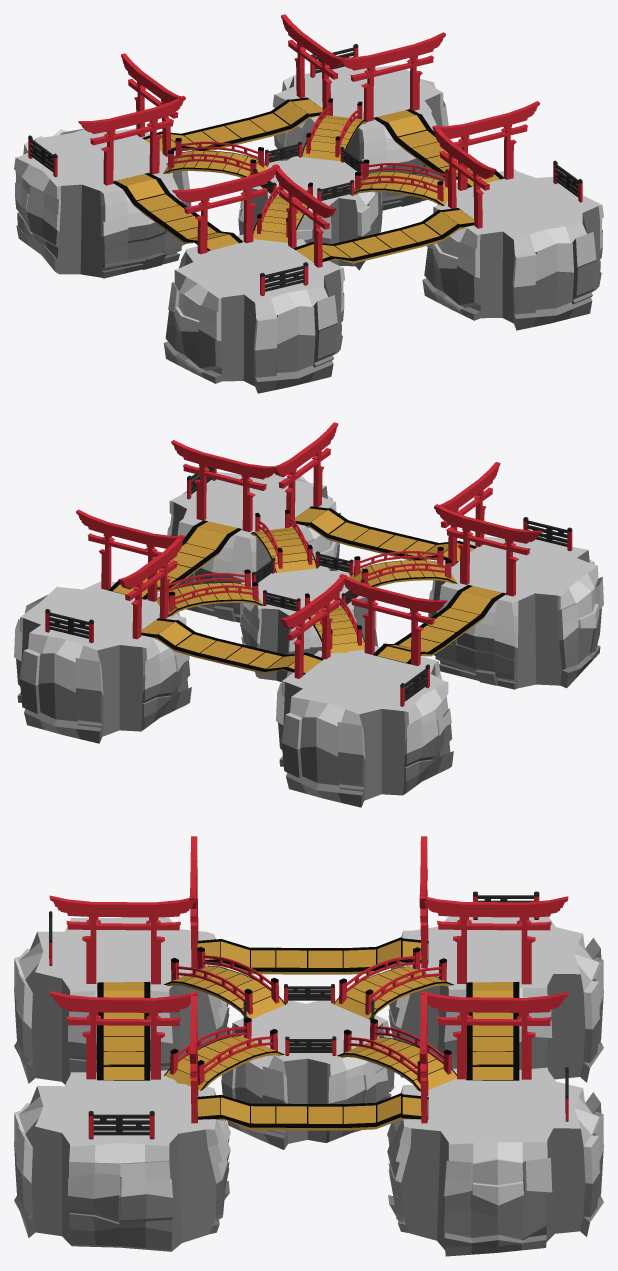
File: jepang_revised.fbx
3 renders of one model, top to bottom at view 1: azimuth 30°, elevation 25°; view 2: azimuth 150°, elevation 25°; view 3: azimuth 270°, elevation 25°, orthographic. The views are drawn at different scales.
Parts seen in each view (by area): view 1: main_platform_lower_left, main_platform_lower_right, main_platform_upper_left, main_platform_upper_right, main_platform_middle, bridge_long_lower, bridge_long_upper, bridge_long_left, torii_upper_left_1, torii_lower_left_1, torii_upper_right_1, bridge_long_right (+16 smaller); view 2: main_platform_upper_left, main_platform_upper_right, main_platform_lower_left, main_platform_lower_right, main_platform_middle, bridge_long_upper, bridge_long_left, bridge_long_lower, torii_lower_right_1, torii_lower_left_1, torii_upper_left_1, torii_upper_right_1 (+17 smaller); view 3: main_platform_upper_right, main_platform_lower_right, main_platform_upper_left, main_platform_lower_left, main_platform_middle, bridge_long_right, bridge_long_left, torii_lower_left_2, torii_upper_left_2, torii_lower_right_2, torii_upper_right_2, bridge_long_lower (+20 smaller).
Boxes of the visible parts, left/top/right/bottom form: main_platform_lower_left: left=163, top=234, right=345, bottom=393; main_platform_lower_right: left=422, top=169, right=603, bottom=330; main_platform_upper_left: left=14, top=128, right=192, bottom=278; main_platform_upper_right: left=272, top=64, right=448, bottom=210; main_platform_middle: left=238, top=156, right=383, bottom=270; bridge_long_lower: left=293, top=208, right=474, bottom=263; bridge_long_upper: left=142, top=97, right=322, bottom=151; bridge_long_left: left=113, top=173, right=242, bottom=251; torii_upper_left_1: left=78, top=95, right=185, bottom=185; torii_lower_left_1: left=172, top=164, right=279, bottom=254; torii_upper_right_1: left=338, top=32, right=445, bottom=121; bridge_long_right: left=373, top=109, right=503, bottom=187; main_platform_upper_left: left=276, top=646, right=453, bottom=807; main_platform_upper_right: left=14, top=581, right=191, bottom=743; main_platform_lower_left: left=428, top=535, right=603, bottom=689; main_platform_lower_right: left=167, top=472, right=340, bottom=622; main_platform_middle: left=240, top=565, right=377, bottom=682; bridge_long_upper: left=141, top=618, right=323, bottom=674; bridge_long_left: left=372, top=585, right=505, bottom=664; bridge_long_lower: left=295, top=506, right=476, bottom=562; torii_lower_right_1: left=171, top=440, right=278, bottom=532; torii_lower_left_1: left=434, top=504, right=542, bottom=596; torii_upper_left_1: left=339, top=574, right=447, bottom=665; torii_upper_right_1: left=76, top=509, right=182, bottom=601; main_platform_upper_right: left=387, top=1067, right=603, bottom=1256; main_platform_lower_right: left=14, top=1070, right=230, bottom=1251; main_platform_upper_left: left=388, top=916, right=603, bottom=1082; main_platform_lower_left: left=14, top=917, right=229, bottom=1084; main_platform_middle: left=221, top=999, right=394, bottom=1149; bridge_long_right: left=197, top=1093, right=428, bottom=1130; bridge_long_left: left=197, top=937, right=428, bottom=974; torii_lower_left_2: left=49, top=895, right=197, bottom=984; torii_upper_left_2: left=420, top=895, right=568, bottom=984; torii_lower_right_2: left=49, top=991, right=197, bottom=1079; torii_upper_right_2: left=420, top=991, right=568, bottom=1079; bridge_long_lower: left=97, top=981, right=150, bottom=1080.
Size of the model in its own units: 3803 by 1418 by 3853.
